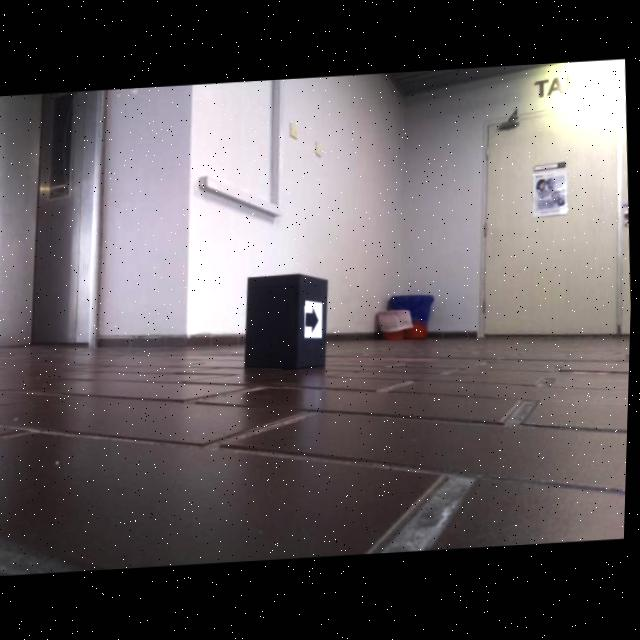RIGHT: (308, 306, 322, 334)
